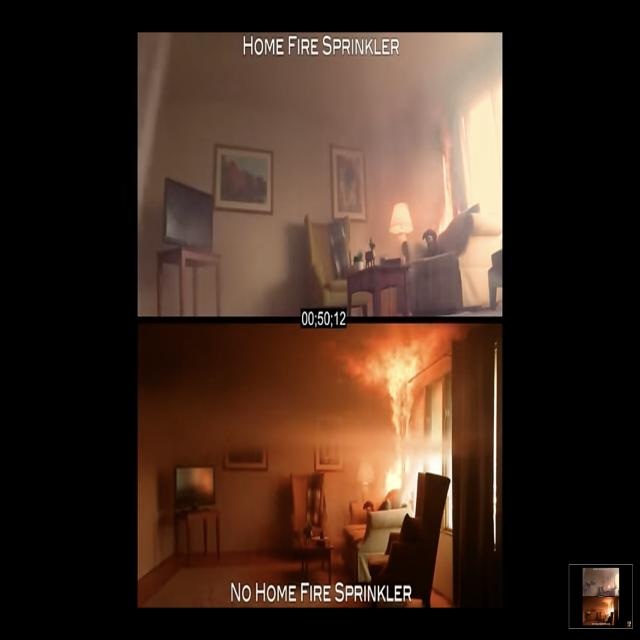Fogo: (329, 328, 464, 543), (415, 112, 476, 272)
